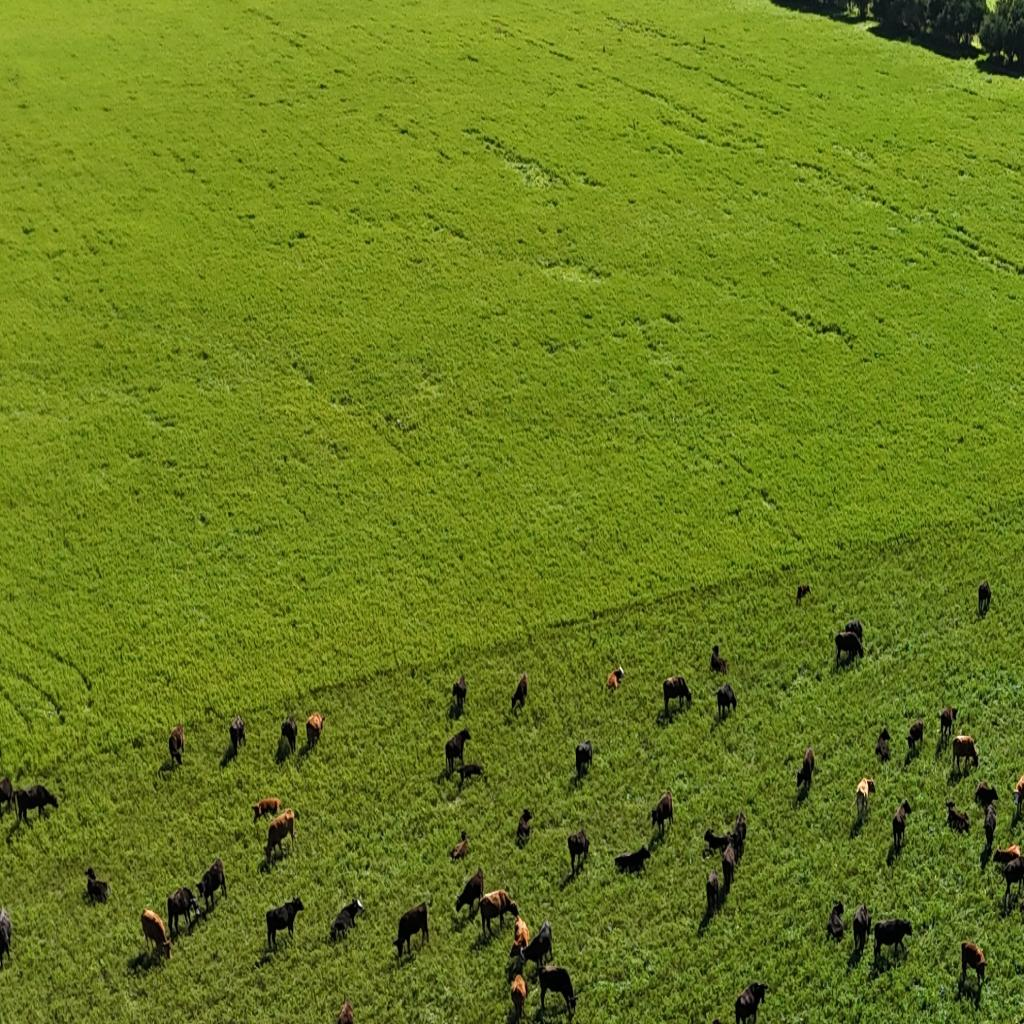cow: (148, 856, 228, 960), (834, 901, 914, 973), (445, 682, 497, 786), (670, 653, 730, 727), (456, 870, 520, 939), (273, 703, 326, 768), (1, 772, 57, 826), (265, 897, 305, 954), (536, 964, 576, 1020), (393, 901, 430, 957), (522, 919, 553, 978), (140, 906, 173, 961), (265, 808, 297, 862), (330, 895, 365, 943), (835, 617, 865, 669), (960, 940, 986, 998), (454, 866, 484, 916), (735, 980, 768, 1024), (445, 726, 471, 774), (650, 789, 674, 839), (952, 733, 980, 774), (662, 675, 692, 713), (1001, 861, 1023, 912), (567, 827, 590, 874), (84, 866, 111, 906), (616, 845, 649, 876), (853, 903, 872, 955), (994, 844, 1021, 880), (892, 801, 911, 852), (855, 775, 876, 821), (946, 799, 971, 835), (510, 972, 527, 1024), (702, 828, 731, 858), (798, 745, 816, 792), (826, 900, 845, 944), (507, 946, 527, 986), (575, 738, 593, 782), (0, 907, 12, 970), (732, 810, 748, 857), (722, 841, 736, 893), (974, 782, 999, 811), (168, 722, 184, 766), (510, 672, 528, 711), (229, 715, 246, 756), (906, 718, 924, 756), (253, 796, 279, 822), (984, 802, 998, 850), (938, 706, 956, 742), (0, 775, 15, 818), (452, 674, 468, 714), (449, 830, 469, 862), (281, 715, 297, 754), (705, 866, 718, 914), (1009, 767, 1023, 811), (876, 727, 892, 764), (516, 808, 532, 844), (710, 646, 728, 676), (328, 917, 348, 944), (335, 998, 355, 1024), (978, 580, 991, 616), (606, 666, 624, 691), (1012, 856, 1024, 891), (1007, 842, 1024, 863), (905, 736, 917, 764), (290, 894, 305, 916), (845, 619, 862, 638), (797, 584, 811, 604), (796, 767, 807, 789), (900, 798, 912, 818), (864, 776, 876, 794), (976, 779, 990, 793), (252, 805, 262, 823), (1018, 772, 1024, 800), (86, 866, 96, 882), (711, 644, 719, 660)
